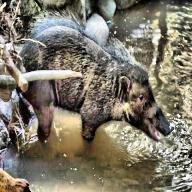boar: (14, 12, 180, 165)
